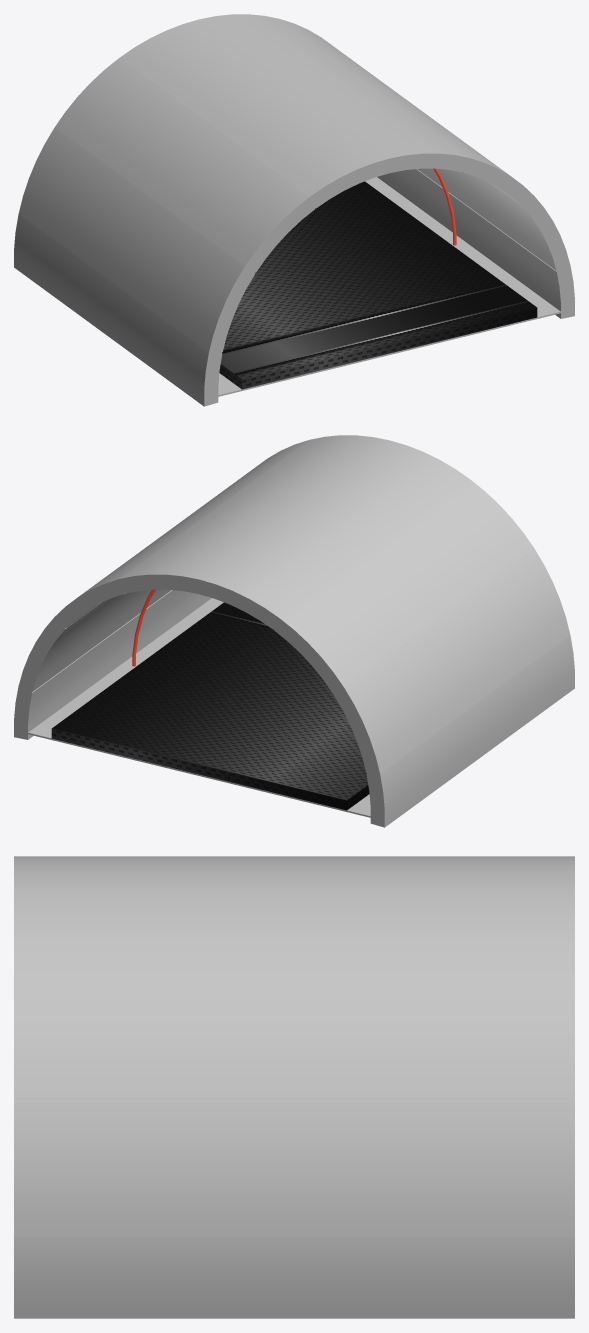
The model's file is 0620_tunnel_bake.gltf.
The picture shows the model from 3 angles, top to bottom: view 1: azimuth 30°, elevation 25°; view 2: azimuth 150°, elevation 25°; view 3: azimuth 270°, elevation 25°; orthographic projection. The views are drawn at different scales.
Visible parts, largest first — view 1: Tube002, Box018, Plane006; view 2: Tube002, Box018, Plane006; view 3: Tube002.
Part boxes in pixels (x1,y1,x2,y2): Tube002: [14, 14, 574, 406]; Box018: [219, 181, 537, 389]; Plane006: [204, 177, 574, 400]; Tube002: [14, 435, 574, 827]; Box018: [51, 602, 369, 810]; Plane006: [28, 598, 370, 817]; Tube002: [14, 856, 574, 1318].
Bounding box in the file's own units: 24.57 × 13.02 × 21.84.
3 materials, 1 textured.
